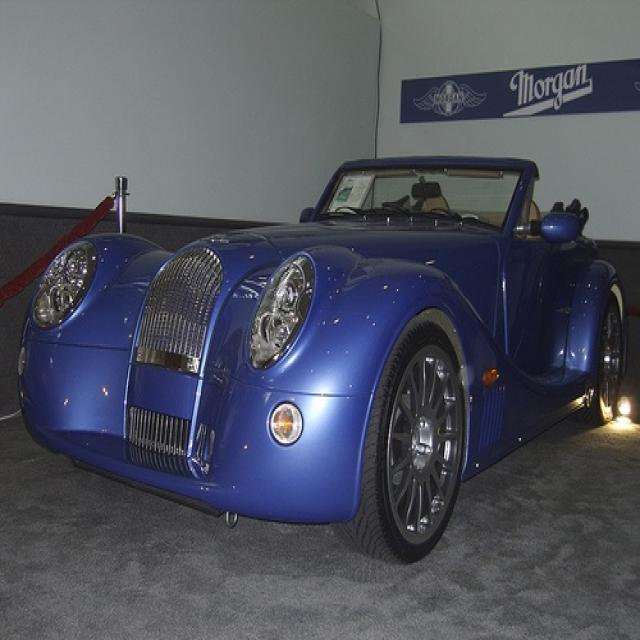car: (18, 147, 634, 563)
